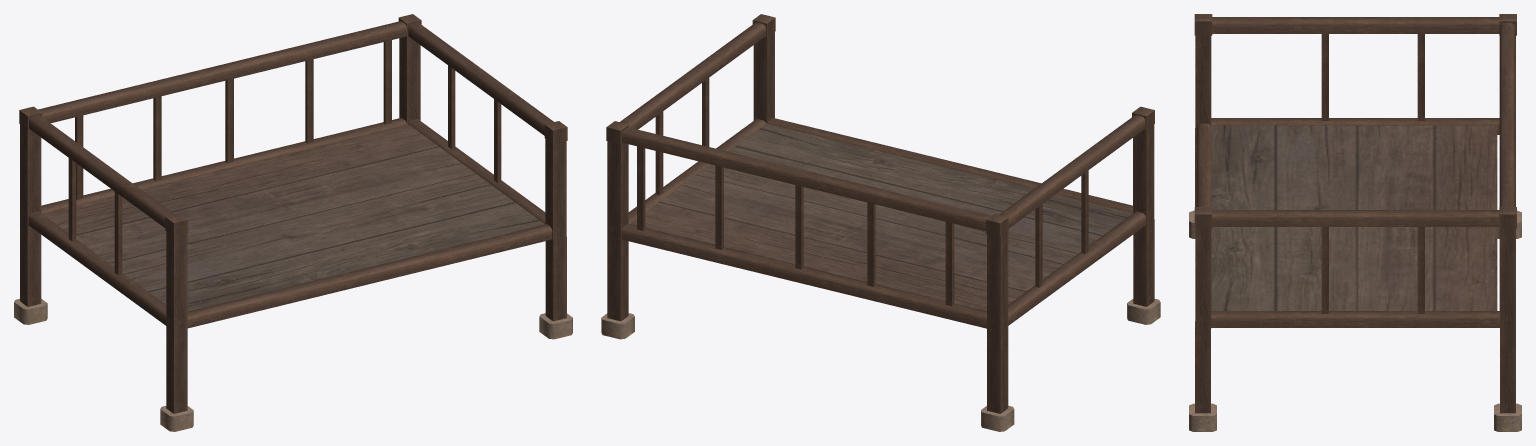
Rendered from jov_rodai.fbx.
3 views of the same model, side by side, from view 1: azimuth 30°, elevation 25°; view 2: azimuth 150°, elevation 25°; view 3: azimuth 270°, elevation 25° (orthographic). The views are drawn at different scales.
Parts seen in each view (by area): view 1: jov_rodai; view 2: jov_rodai; view 3: jov_rodai.
Boxes of the visible parts, <box> form: jov_rodai: <box>14,14,572,431</box>; jov_rodai: <box>601,14,1160,431</box>; jov_rodai: <box>1189,14,1521,431</box>.
Size of the model in its own units: 442 by 219 by 303.
